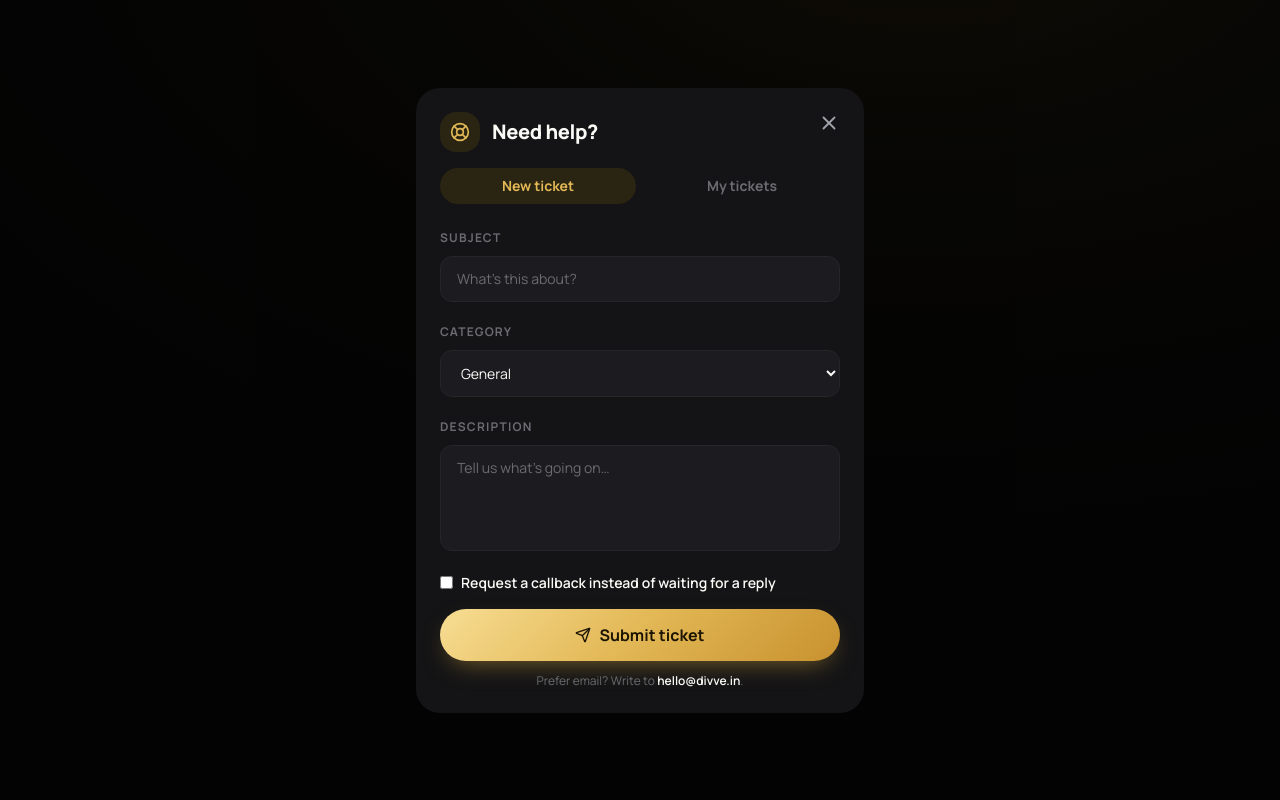
Scenario: SupportCard › shows an empty state when there are no tickets yet
Click the button with test id "support-tab-mine-btn" at (742, 186), box [644,168,840,204]
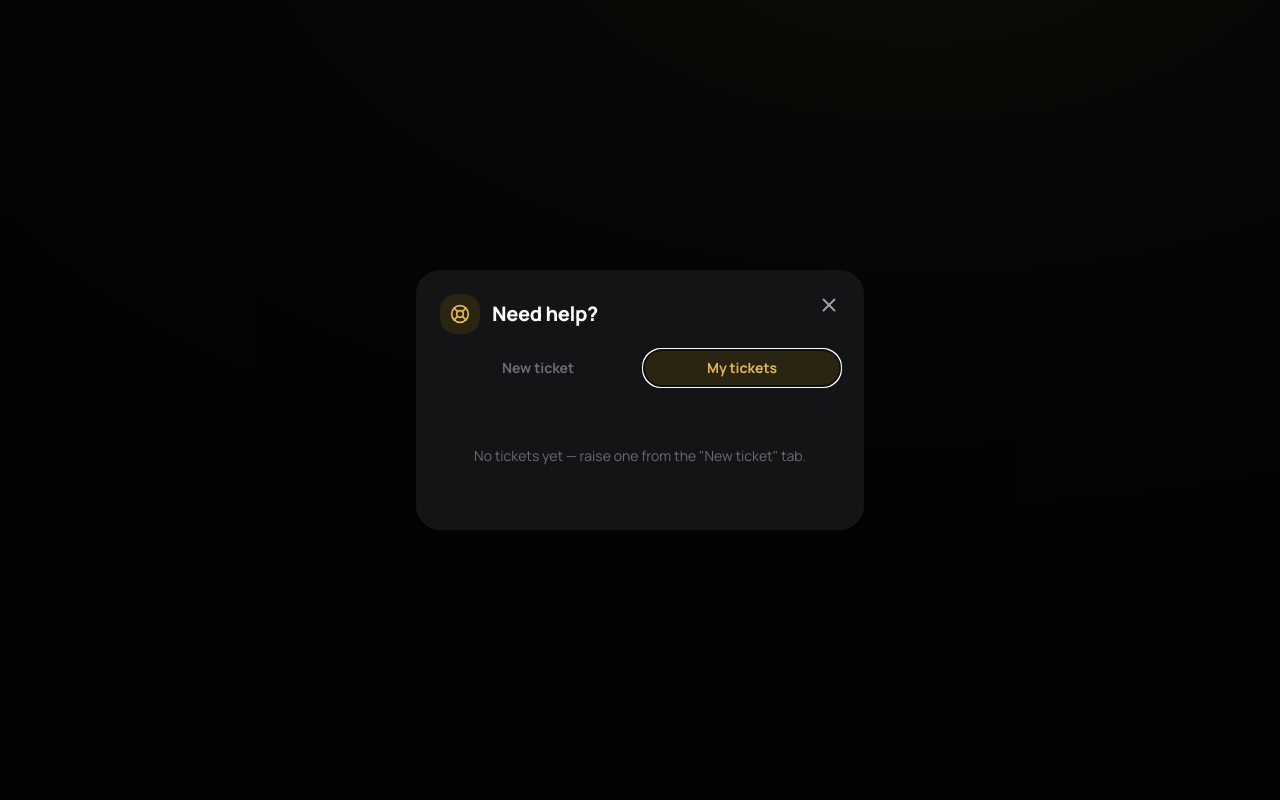
Check: the text "No tickets yet — raise one from the \"New ticket\" tab." is shown, box [474,446,806,465]
